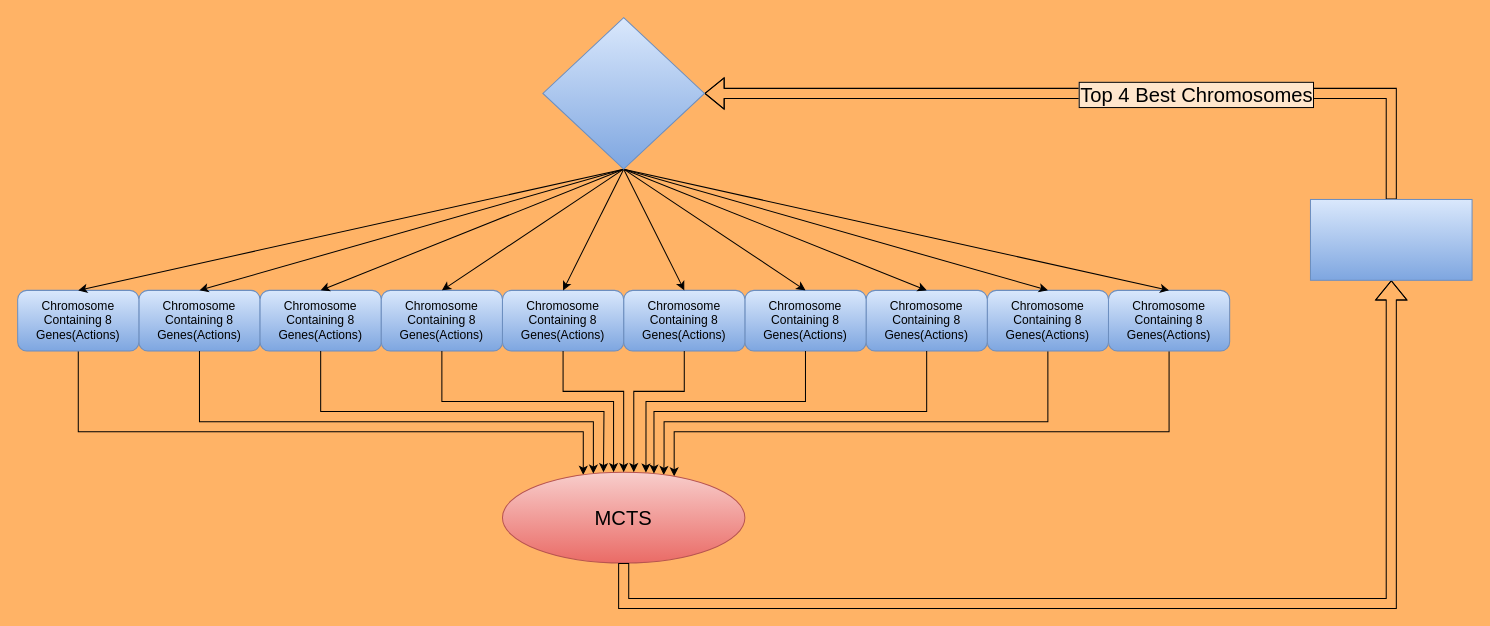
This 1490x626 diagram has some shape labels left out. Each missing label, with the centre of its shape:
"Evaluation (Gap of HP)" belongs at (1390,239).
"Recombination" belongs at (623,93).
